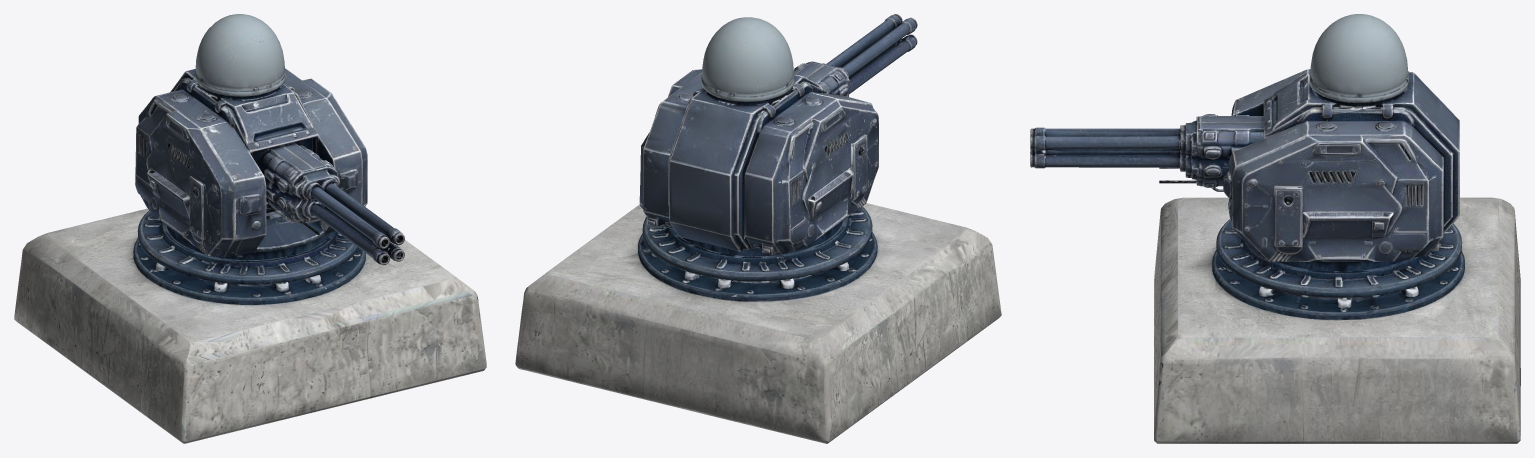
Rendered from turret.glb.
3 renders of one model, left to right at view 1: azimuth 30°, elevation 25°; view 2: azimuth 150°, elevation 25°; view 3: azimuth 270°, elevation 25°, orthographic. The views are drawn at different scales.
Parts seen in each view (by area): view 1: turret; view 2: turret; view 3: turret.
Part boxes in pixels (<box>): turret: <box>14,14,486,443</box>; turret: <box>515,14,1001,443</box>; turret: <box>1030,14,1520,443</box>.
Size of the model in its own units: 0.9951 by 1 by 1.28.
Materials: 1 (1 with a texture image).
